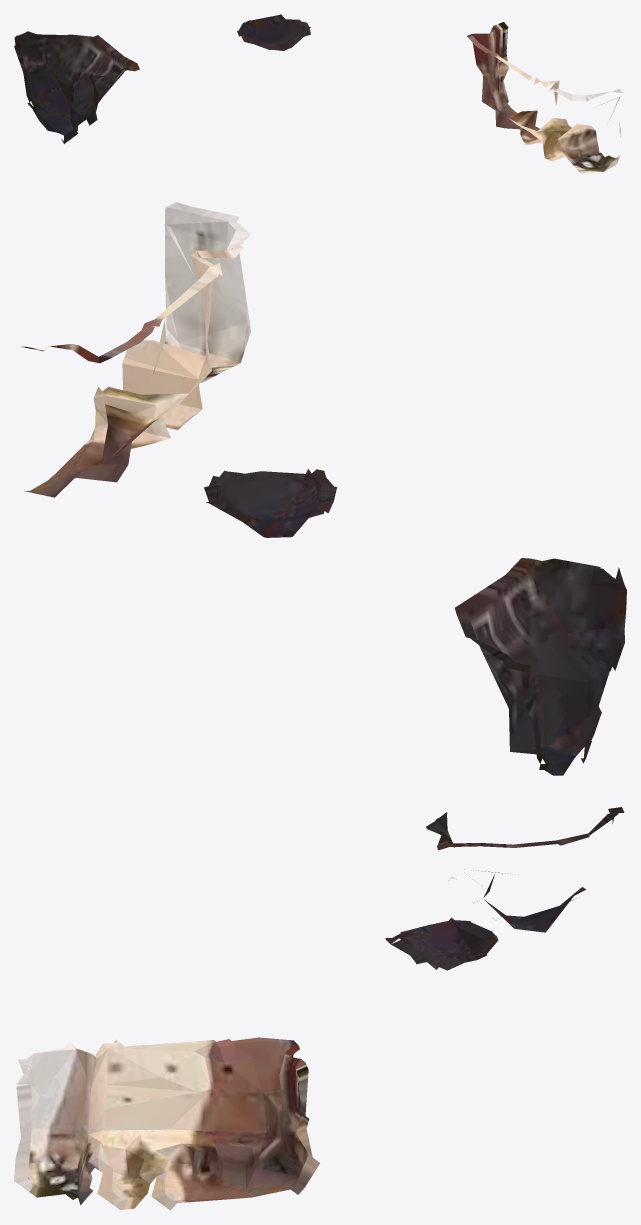
The picture shows the model from 3 angles, top to bottom: view 1: azimuth 30°, elevation 25°; view 2: azimuth 150°, elevation 25°; view 3: azimuth 270°, elevation 25°; orthographic projection. The views are drawn at different scales.
Parts seen in each view (by area): view 1: Mesh_0; view 2: Mesh_0; view 3: Mesh_0.
Boxes of the visible parts, bbox=[...] form: Mesh_0: bbox=[14, 14, 623, 172]; Mesh_0: bbox=[21, 202, 626, 775]; Mesh_0: bbox=[14, 807, 624, 1210].
Bounding box in the file's own units: 32.81 × 7.65 × 30.3.
Materials: 1 (1 with a texture image).
